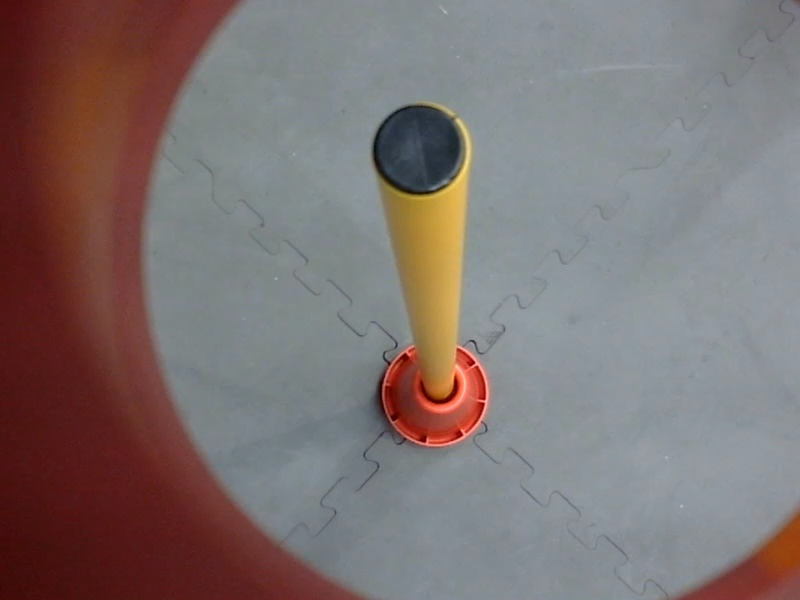tip: (356, 91, 478, 205)
